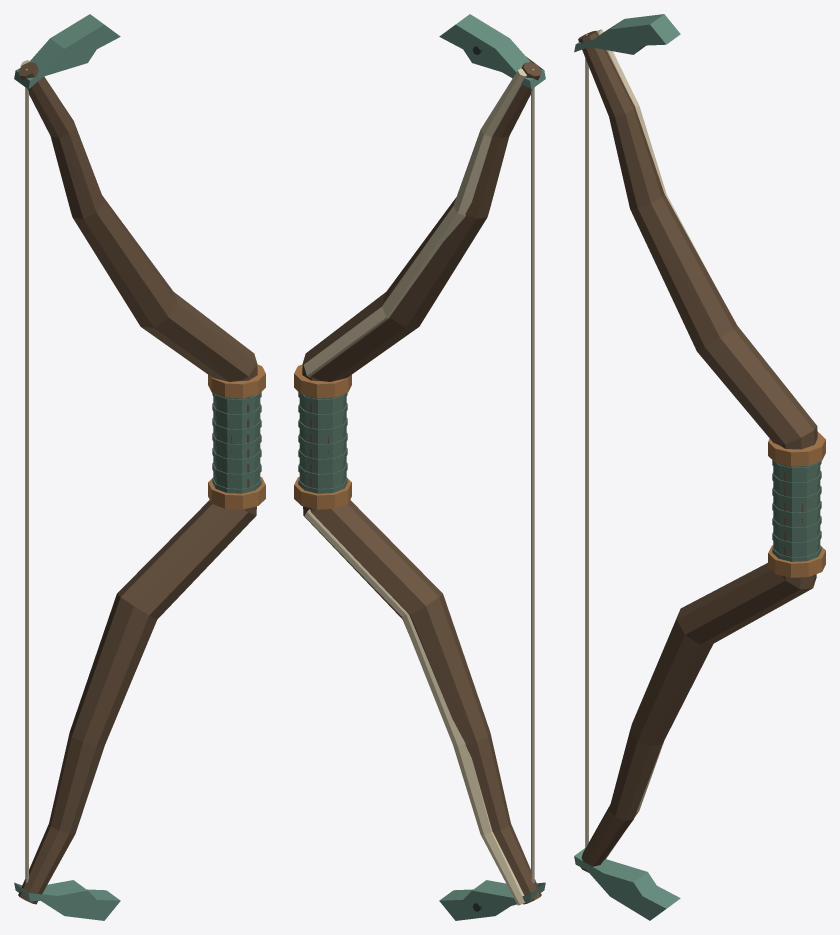
Rendered from SWW_SeaserpentRecurve.fbx.
3 views of the same model, side by side, from view 1: azimuth 30°, elevation 25°; view 2: azimuth 150°, elevation 25°; view 3: azimuth 330°, elevation 25° (orthographic).
Visible parts, largest first — view 1: SWW_SeaserpentRecurve; view 2: SWW_SeaserpentRecurve; view 3: SWW_SeaserpentRecurve.
Part boxes in pixels (<box>): SWW_SeaserpentRecurve: <box>14,14,265,920</box>; SWW_SeaserpentRecurve: <box>294,14,545,920</box>; SWW_SeaserpentRecurve: <box>574,14,825,920</box>.
Size of the model in its own units: 0.4863 by 1.72 by 0.0959.
